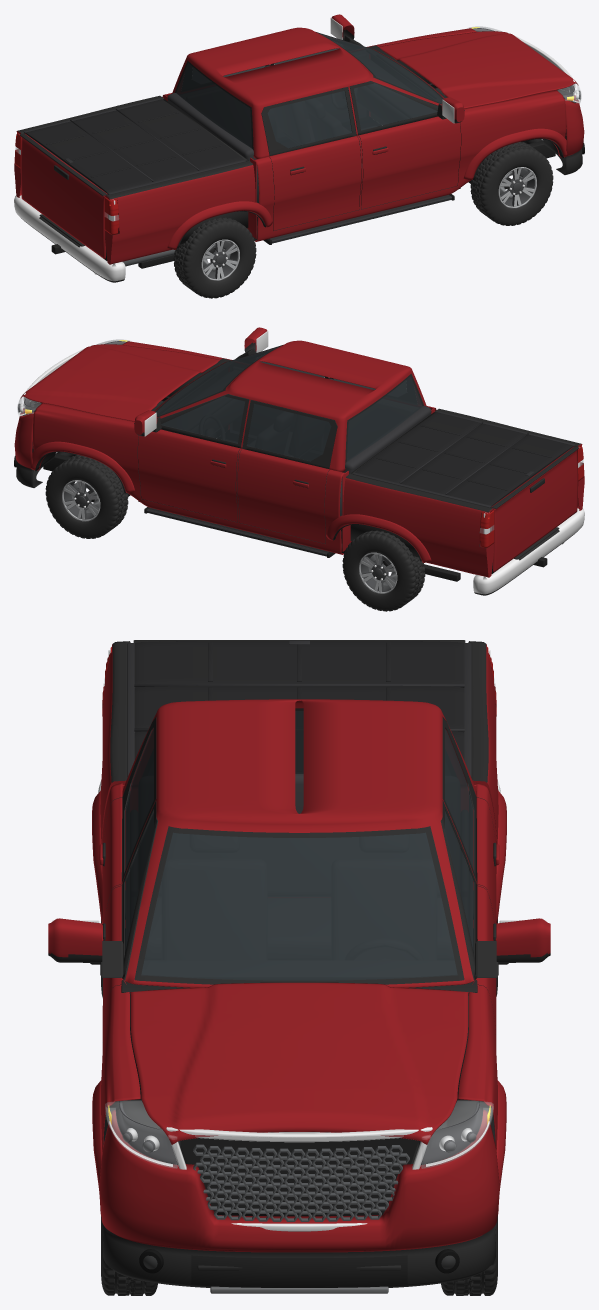
File: tacoma-style.glb
The picture shows the model from 3 angles, top to bottom: view 1: azimuth 30°, elevation 25°; view 2: azimuth 150°, elevation 25°; view 3: azimuth 270°, elevation 25°; orthographic projection. The views are drawn at different scales.
Visible parts, largest first — view 1: body_cab, tonneau_cover, door_rr, bed, door_fr, hood, tailgate, wheel_fr, wheel_rr, bumper_rear, bumper_front, running_board_r (+3 smaller); view 2: body_cab, tonneau_cover, door_rl, bed, door_fl, hood, tailgate, wheel_fl, wheel_rl, bumper_rear, bumper_front, running_board_l (+3 smaller); view 3: body_cab, hood, bumper_front, tonneau_cover, grille, bed, door_rl, door_rr, door_fl, door_fr, mirror_l, mirror_r (+4 smaller).
Boxes of the visible parts, x1,y1,x2,y2 form: body_cab: (93,27,569,274); tonneau_cover: (23,98,245,194); door_rr: (261,87,361,230); bed: (14,95,272,264); door_fr: (349,81,460,209); hood: (379,31,578,108); tailgate: (20,133,108,259); wheel_fr: (470,141,553,225); wheel_rr: (173,217,256,298); bumper_rear: (14,195,125,282); bumper_front: (541,95,584,174); running_board_r: (263,194,454,244); body_cab: (29,340,564,581); tonneau_cover: (353,411,575,507); door_rl: (237,400,337,543); bed: (326,408,584,577); door_fl: (138,394,249,522); hood: (20,344,219,421); tailgate: (490,446,578,572); wheel_fl: (45,454,128,538); wheel_rl: (342,530,425,611); bumper_rear: (473,508,584,595); bumper_front: (14,408,57,487); running_board_l: (144,507,335,557); body_cab: (92,699,506,1216); hood: (130,982,468,1144); bumper_front: (99,1110,499,1293); tonneau_cover: (127,640,471,777); grille: (166,1127,432,1231); bed: (92,641,506,923); door_rl: (442,717,499,924); door_rr: (99,717,156,923); door_fl: (440,801,496,1041); door_fr: (102,801,157,1042); mirror_l: (475,918,550,977); mirror_r: (48,918,123,977).
Bounding box in the file's own units: 5.45 × 1.81 × 2.37.
